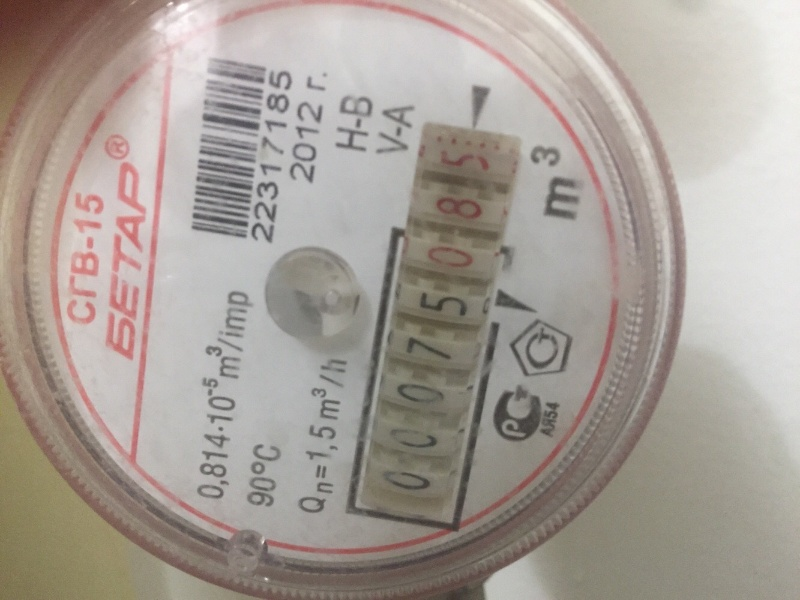meter: (378, 142, 534, 515)
